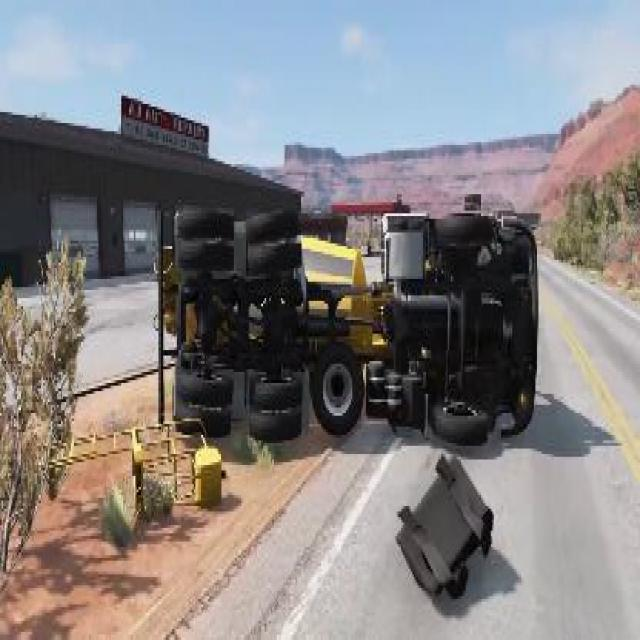accident: (151, 167, 540, 462)
